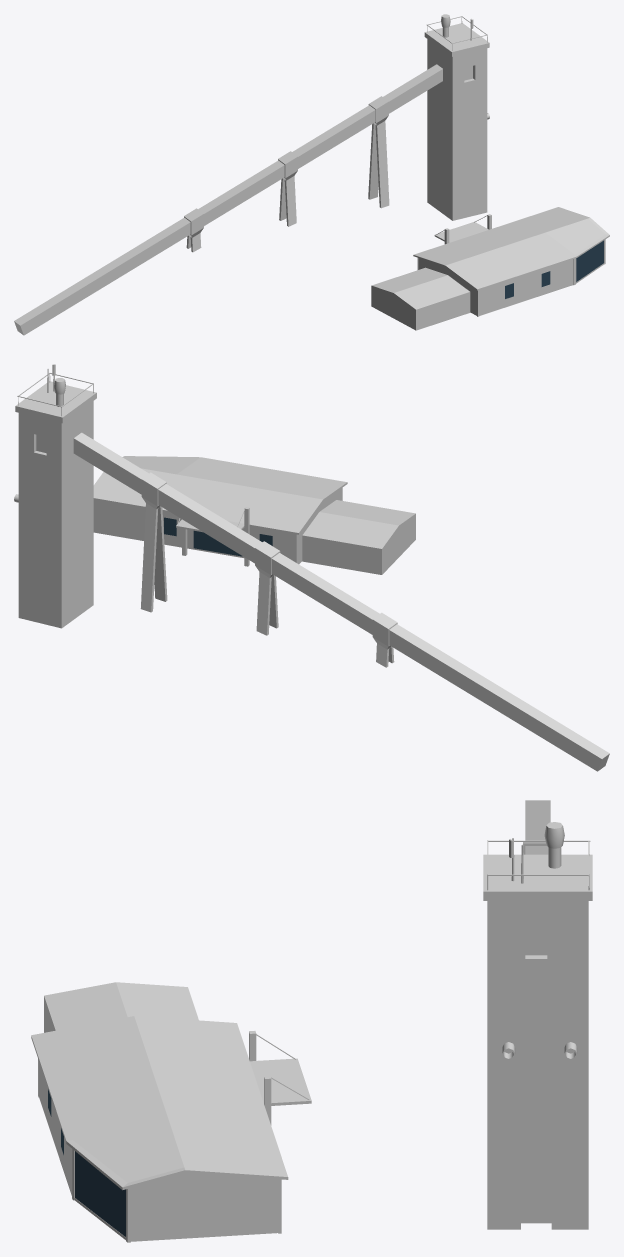
Rendered from Control_room_mine_4k_v.fbx.
The picture shows the model from 3 angles, top to bottom: view 1: azimuth 30°, elevation 25°; view 2: azimuth 150°, elevation 25°; view 3: azimuth 270°, elevation 25°; orthographic projection. The views are drawn at different scales.
Parts seen in each view (by area): view 1: Sovringsverk, Office open pit, Office open pit roof; view 2: Sovringsverk, Office open pit, Office open pit roof; view 3: Office open pit, Sovringsverk, Office open pit roof.
Part boxes in pixels (x1,y1,x2,y2): Sovringsverk: (14,14,489,335); Office open pit: (371,214,605,330); Office open pit roof: (513,207,609,257); Sovringsverk: (14,364,609,771); Office open pit: (93,457,415,574); Office open pit roof: (93,456,200,508); Office open pit: (31,982,311,1242); Sovringsverk: (483,800,592,1229); Office open pit roof: (66,1122,288,1190).
Size of the model in its own units: 52.45 by 21.57 by 26.08.
